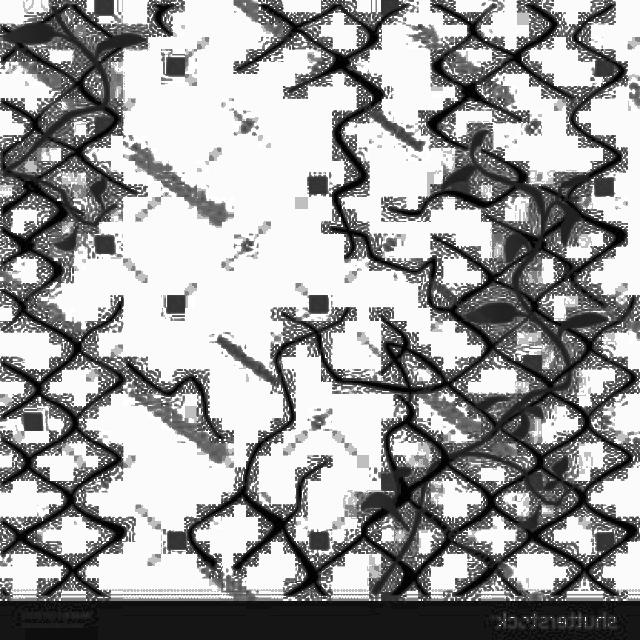anomaly-fence: (21, 9, 638, 599)
